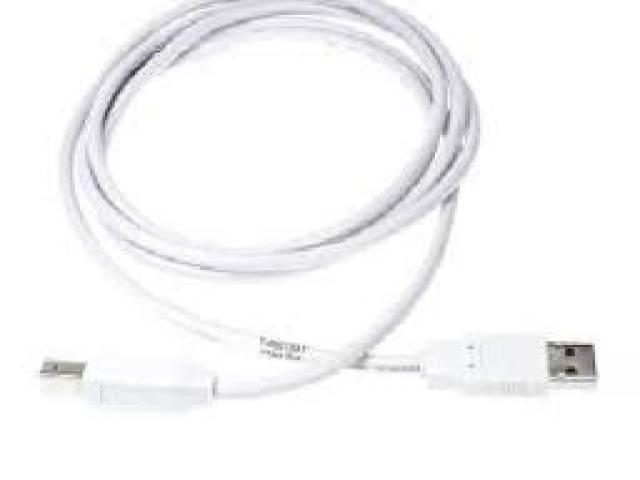wire: (34, 0, 601, 431)
